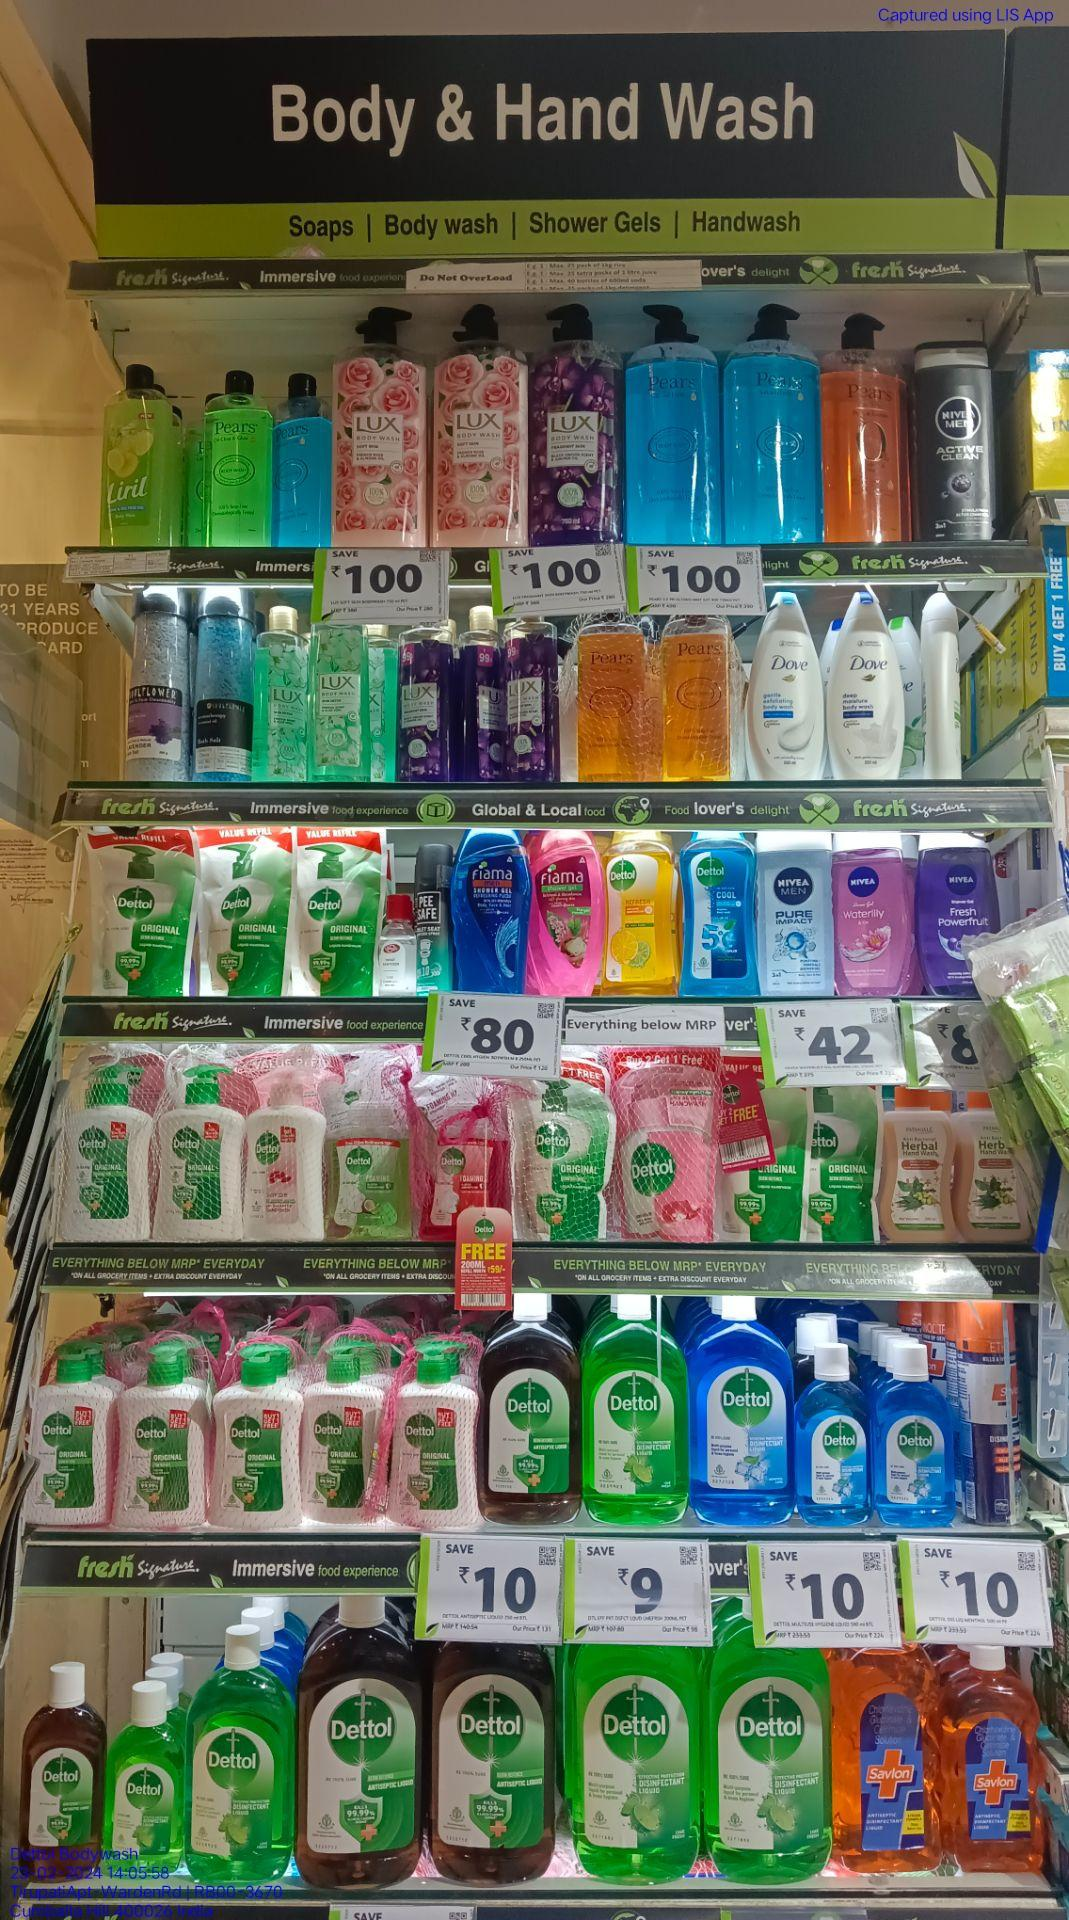Dettol_Bodywash_Cool: (681, 830, 760, 1000)
Dettol_Bodywash_Refresh: (603, 822, 678, 998)
Dove_Deep_Moisture_Body_Wash_250ML: (828, 590, 903, 783)
Dove_Gentle_Exfoliating_Body_Wash_250ML: (745, 588, 824, 783)
Fiama_Shower_Gel_Patchouli_and_Macadamia_250ML: (529, 833, 599, 999)
Liril_Lime_and_Tea_Tree_Oil_Body_Wash_250ML: (99, 362, 167, 549), (394, 616, 448, 783), (458, 599, 506, 779), (508, 615, 557, 778)
Lux_Body_Wash_Skin_Detox_Freesia_Scent_and_Alove_Vera_245ML: (249, 600, 307, 780), (309, 621, 371, 784)
Nivea_Shower_Gel_Fresh_Powerfruit_250ML: (922, 830, 1001, 999)
Nivea_Shower_Gel_Waterlily_and_Oil_250ML: (836, 830, 914, 995)
Pears_Pure_Glycerin_and_Lemon_Flower_Extracts_Body_Wash_250ML: (204, 367, 270, 549)
Pears_Pure_Glycerin_and_Mint_Extracts_Body_Wash_250ML: (273, 367, 330, 549)
